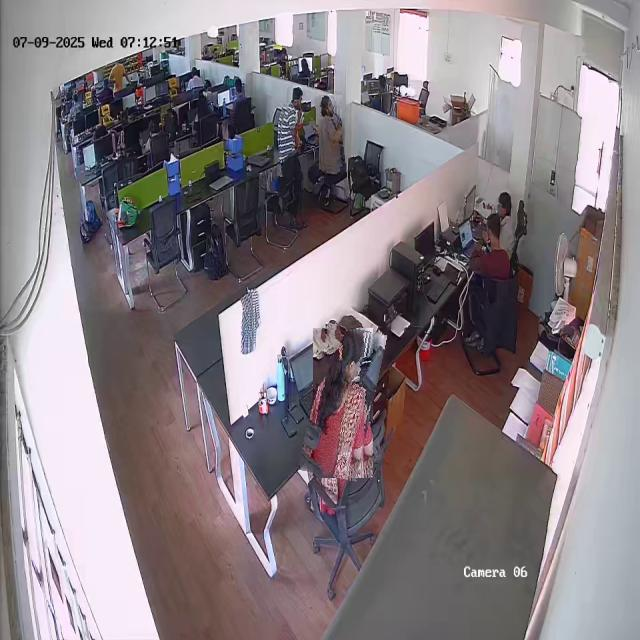person: (306, 326, 380, 480), (274, 84, 309, 229), (317, 95, 344, 175)
